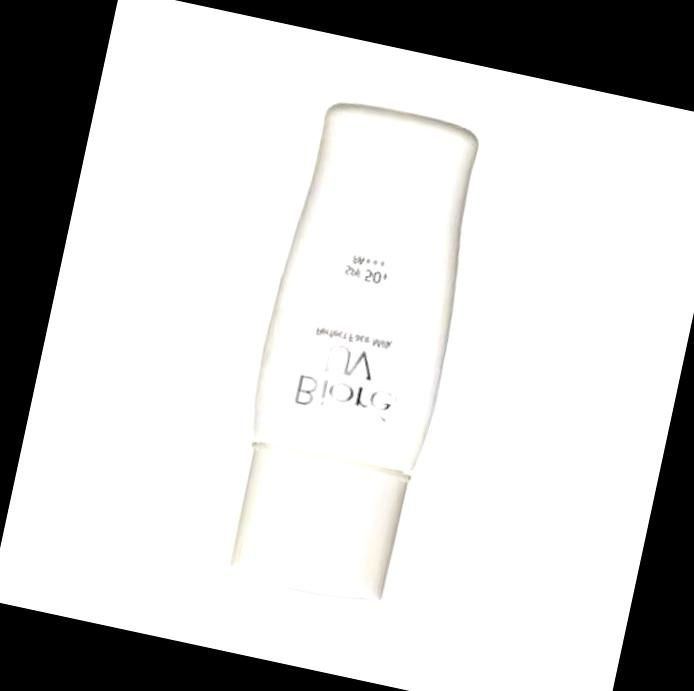cosmetic: (221, 94, 495, 608)
